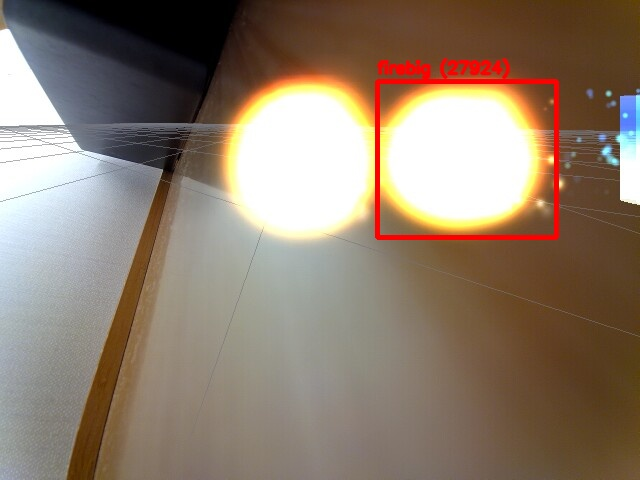firebig: (377, 81, 556, 237)
